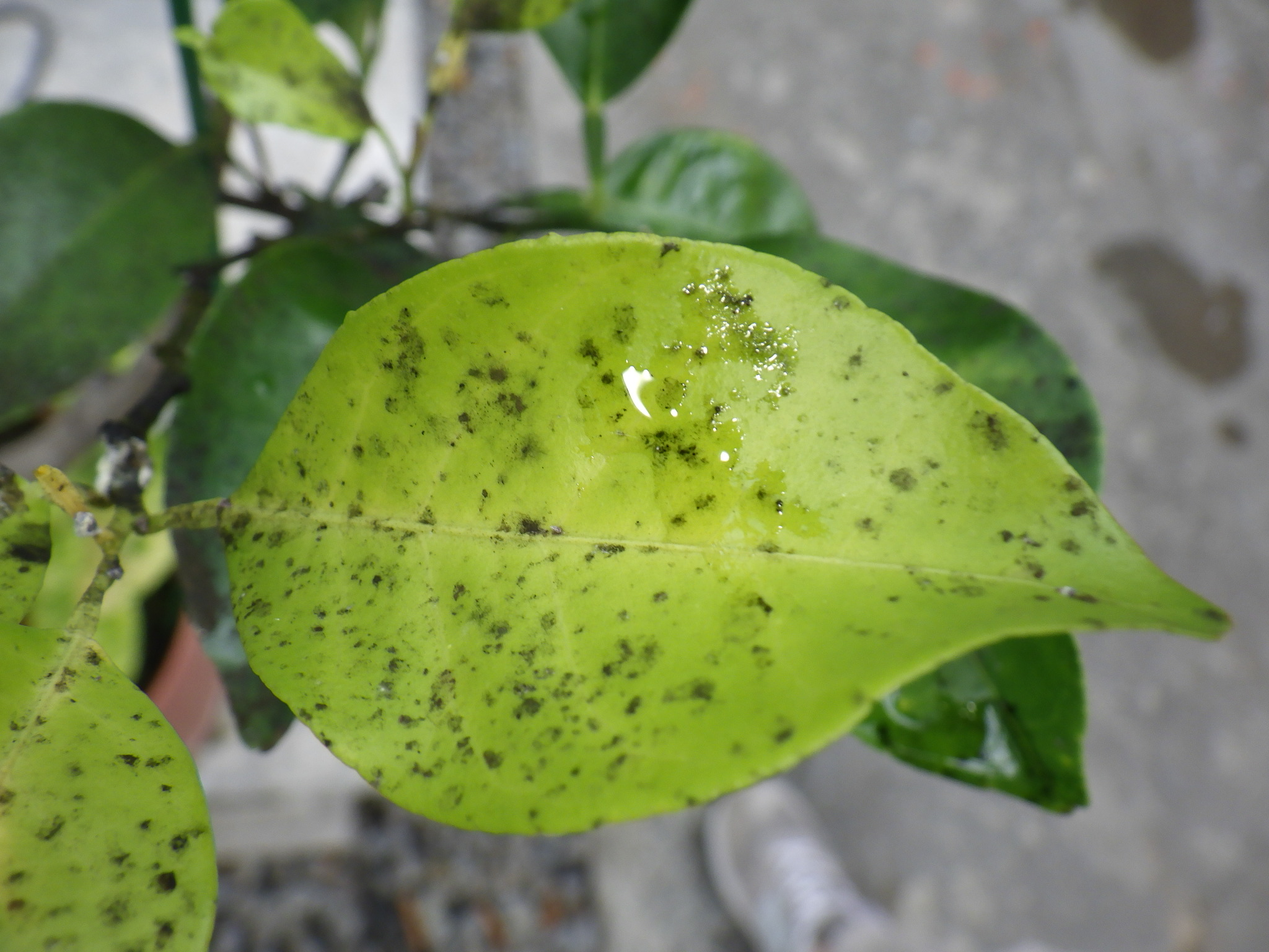Sooty_Mold: (167, 234, 1227, 831)
